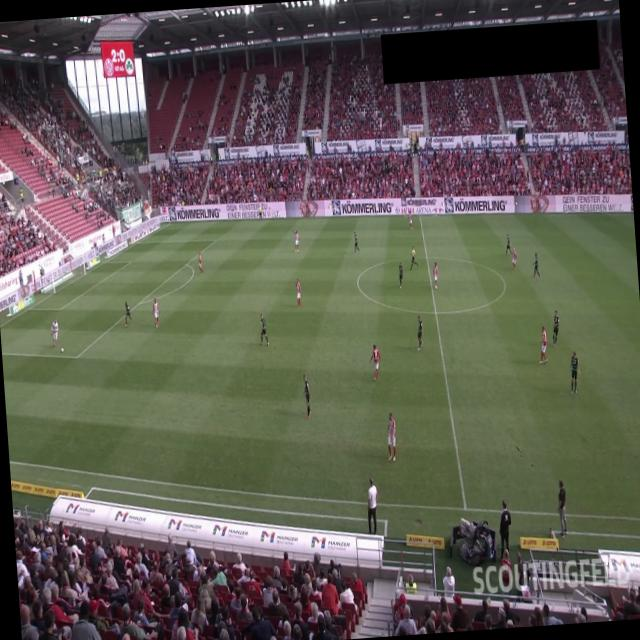ball: (60, 346, 64, 354)
goalkeeper: (50, 318, 60, 348)
player: (384, 411, 398, 462), (568, 349, 580, 394), (368, 343, 382, 381), (536, 324, 548, 364), (302, 372, 312, 418), (549, 308, 561, 346), (258, 311, 269, 346), (414, 314, 424, 349), (122, 300, 132, 326), (152, 297, 160, 329), (294, 277, 302, 307), (531, 252, 540, 278), (396, 260, 404, 289), (432, 261, 439, 290), (292, 229, 300, 252), (504, 233, 512, 256), (352, 230, 360, 253), (510, 247, 518, 270), (197, 250, 204, 273), (407, 210, 413, 230)
referee: (408, 243, 418, 270), (257, 204, 263, 222)
